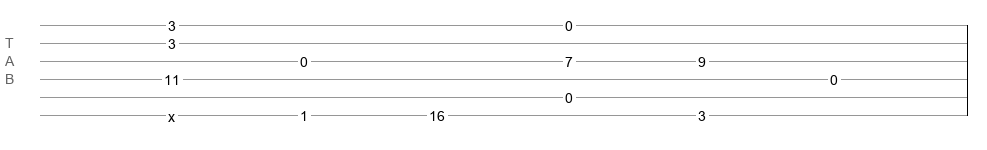0: (300, 54, 308, 64), (565, 90, 573, 100), (565, 18, 573, 28), (830, 72, 838, 82)
1: (300, 108, 308, 118)
11: (164, 72, 180, 82)
16: (429, 108, 445, 118)
3: (168, 36, 176, 46), (168, 18, 176, 28), (698, 108, 706, 118)
7: (565, 54, 573, 64)
9: (698, 54, 706, 64)
x: (168, 109, 175, 117)
